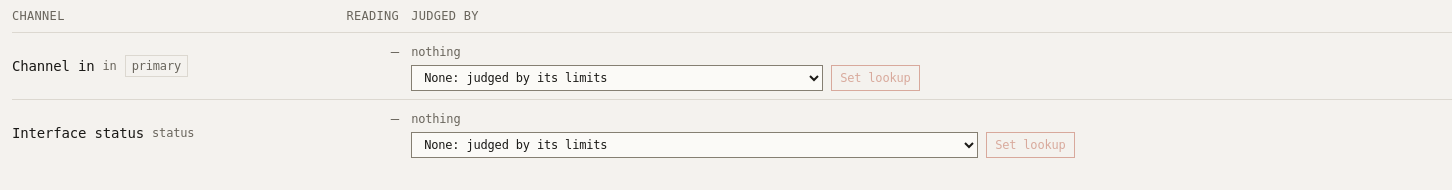
setting a channel’s lookup in the channel table (U-82) › sets the declared lookup when asked, and not before, held to the sensor’s version
Step 1. Select "Interface operational status (ms.snmp.if-oper-status), declared by its type" in the dropdown named "Lookup for Interface status" → (695, 145), box [411,132,978,158]
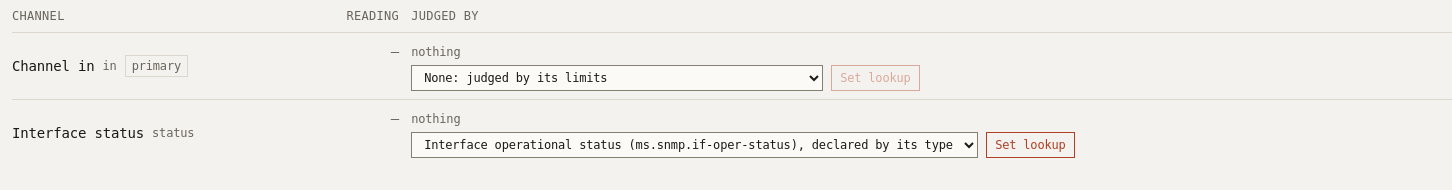
Now the button with aria-label "Set lookup for Interface status" is enabled
Step 2. Click the button with aria-label "Set lookup for Interface status" → (1030, 145), box [986,132,1075,158]
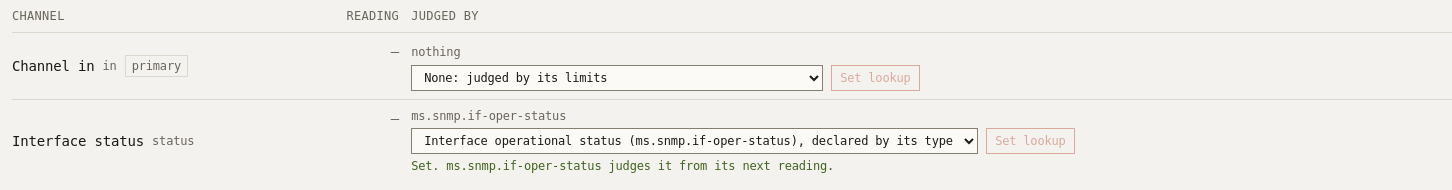
Now the text "ms.snmp.if-oper-status" is shown, box [411,108,566,124]
